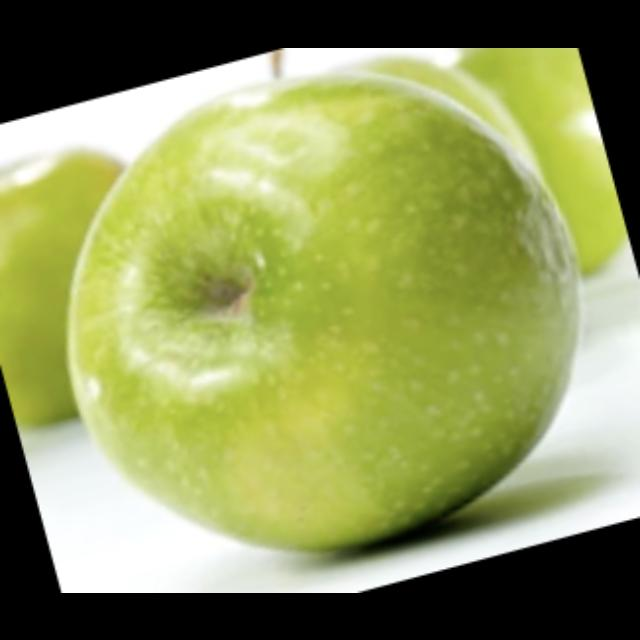Apel Segar: (80, 88, 563, 539)
Apel Tidak Segar: (349, 73, 564, 316)
